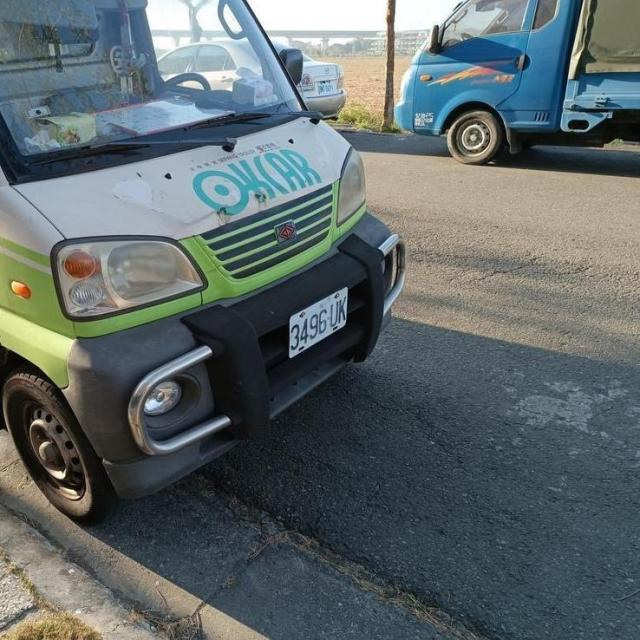W: (281, 280, 355, 361)
